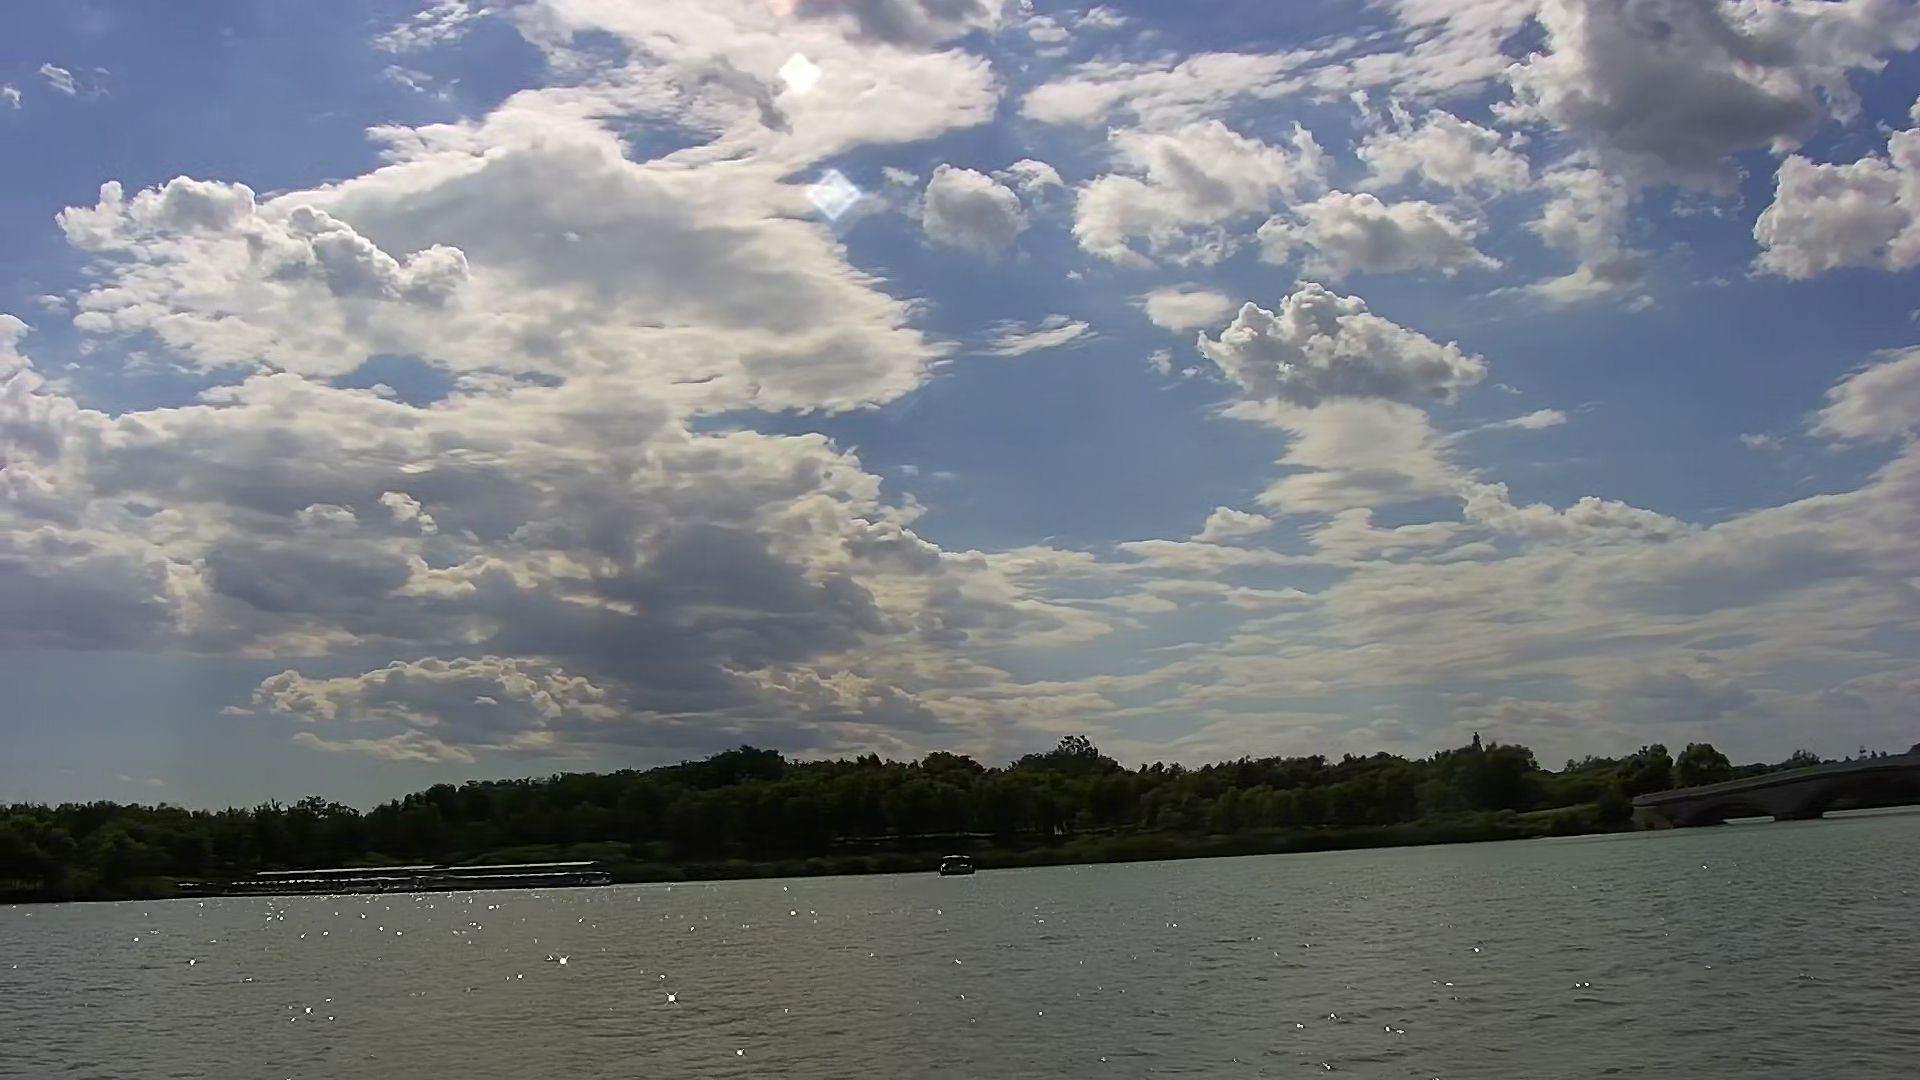boat: (938, 847, 986, 874)
bridge: (1660, 749, 1920, 827)
harbor: (249, 860, 608, 899)
